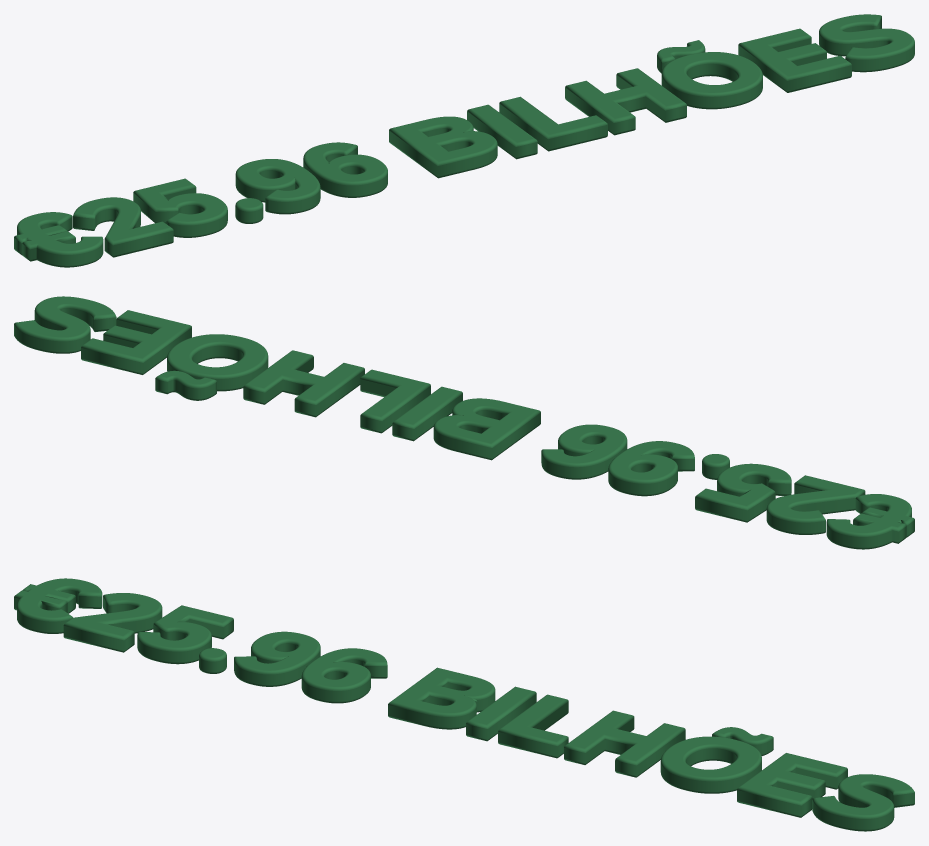
3 renders of one model, top to bottom at view 1: azimuth 30°, elevation 25°; view 2: azimuth 150°, elevation 25°; view 3: azimuth 330°, elevation 25°, orthographic.
Parts seen in each view (by area): view 1: Text 2; view 2: Text 2; view 3: Text 2.
Boxes of the visible parts, x1,y1,x2,y2 form: Text 2: (14, 14, 914, 267); Text 2: (14, 296, 914, 549); Text 2: (14, 578, 914, 831).
Bounding box in the file's own units: 6.82 × 0.12 × 0.8466.
